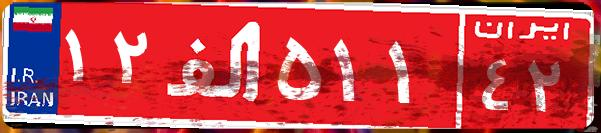1: (385, 28, 445, 110), (330, 28, 385, 110), (57, 26, 110, 107)
2: (110, 28, 158, 105), (525, 38, 570, 115)
4: (475, 38, 525, 113)
5: (273, 28, 330, 110)
الف: (158, 15, 273, 115)
